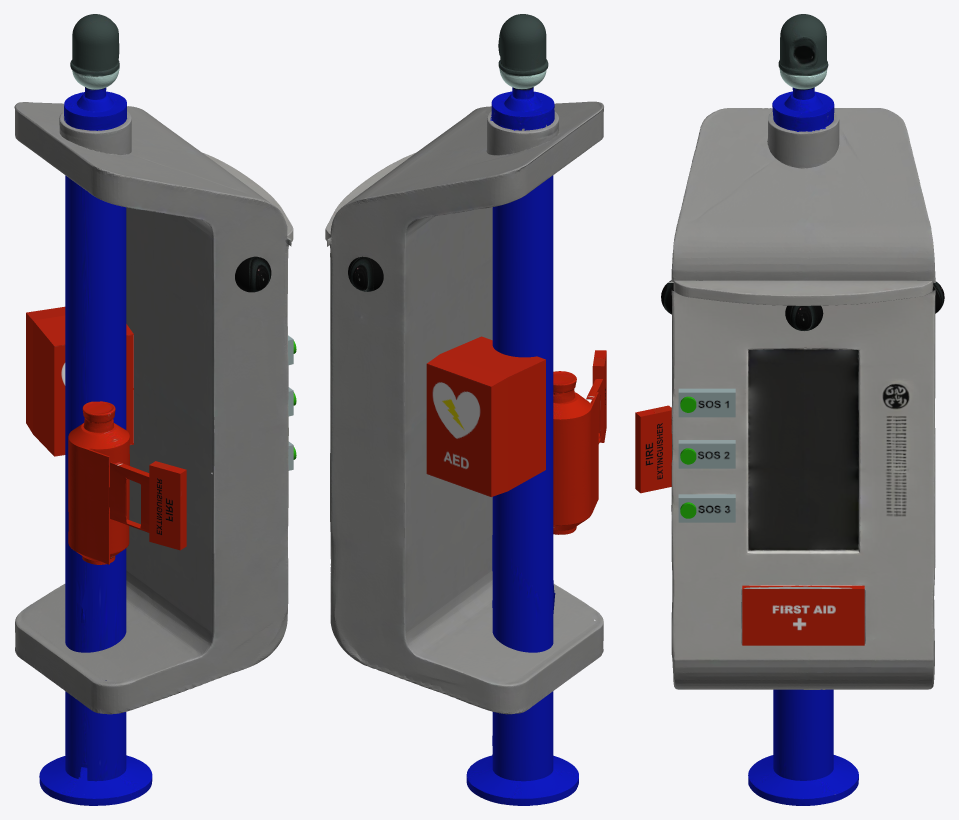
3 views of the same model, side by side, from view 1: azimuth 30°, elevation 25°; view 2: azimuth 150°, elevation 25°; view 3: azimuth 270°, elevation 25° (orthographic).
Visible parts, largest first — view 1: Body.099; view 2: Body.099; view 3: Body.099.
Boxes of the visible parts, x1=… form: Body.099: x1=14, y1=14, x2=296, y2=805; Body.099: x1=325, y1=14, x2=606, y2=805; Body.099: x1=635, y1=14, x2=944, y2=805.
Size of the model in its own units: 0.2817 by 0.9996 by 0.3661.
Materials: 8 (8 with a texture image).
